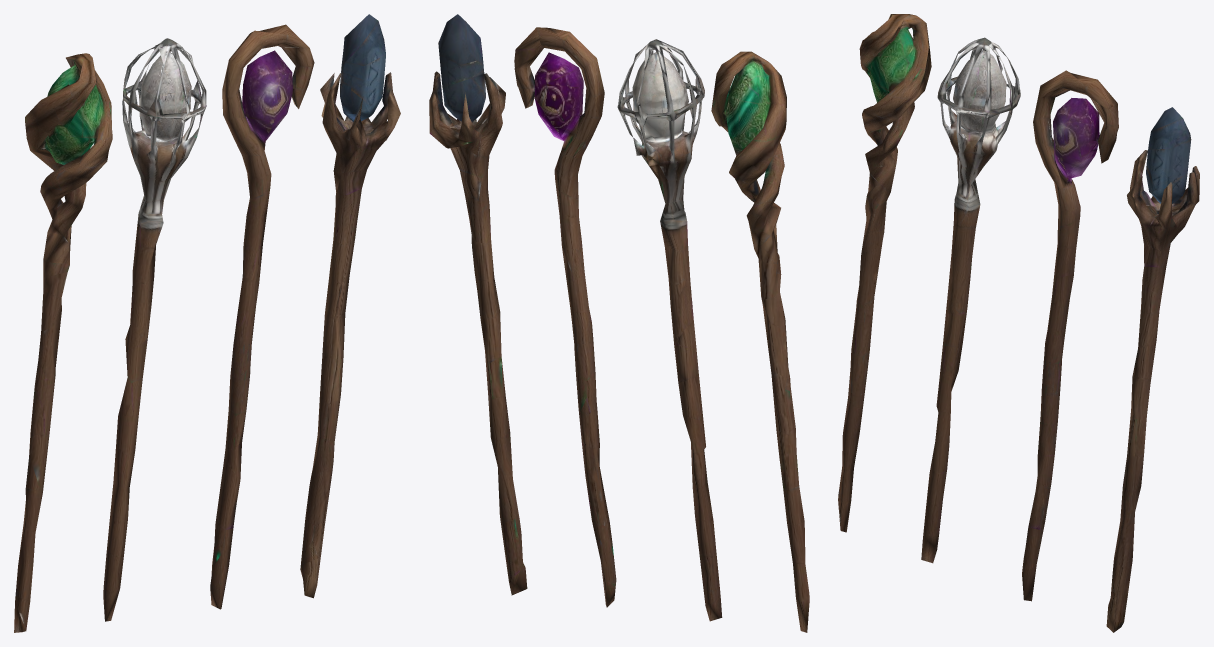
Rendered from 1004_staff.glb.
The picture shows the model from 3 angles, left to right: view 1: azimuth 30°, elevation 25°; view 2: azimuth 150°, elevation 25°; view 3: azimuth 330°, elevation 25°; orthographic projection. The views are drawn at different scales.
Parts seen in each view (by area): view 1: Model; view 2: Model; view 3: Model.
Boxes of the visible parts, bbox=[...] form: Model: bbox=[14, 14, 400, 632]; Model: bbox=[429, 14, 809, 632]; Model: bbox=[838, 14, 1199, 632].
Size of the model in its own units: 0.6636 by 1 by 0.1364.
1 material, 1 textured.
